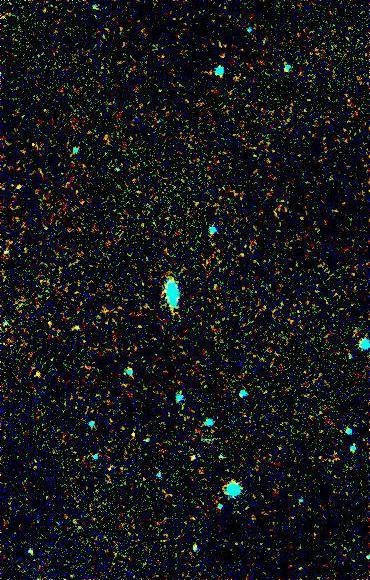star: (24, 360, 54, 390)
